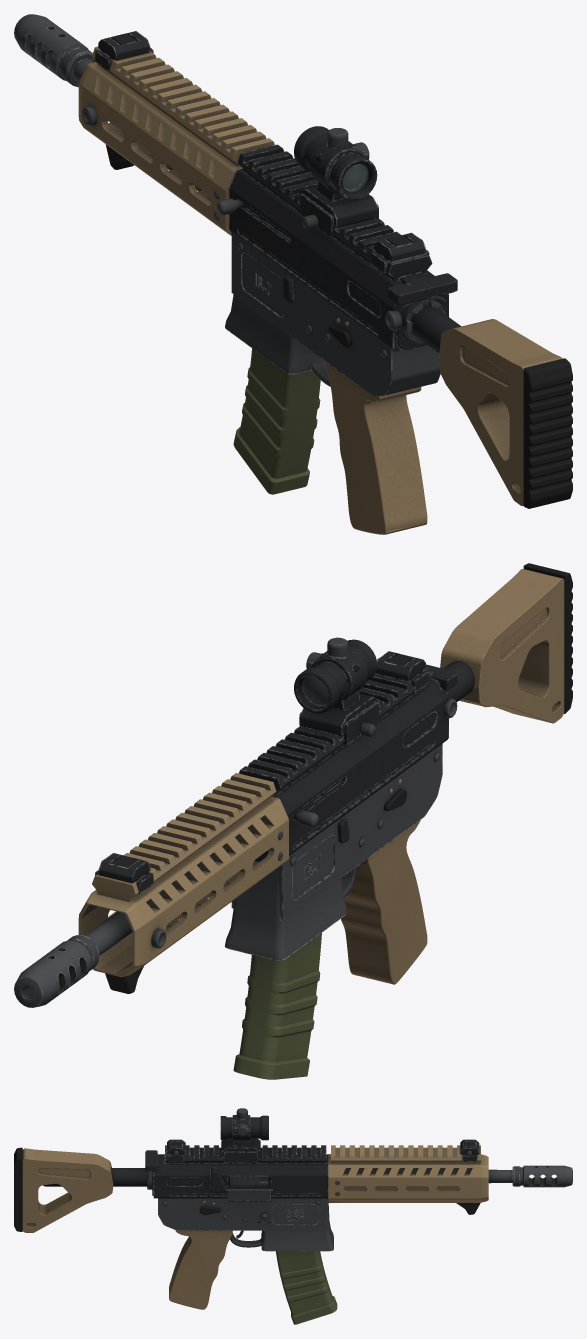
3 renders of one model, top to bottom at view 1: azimuth 30°, elevation 25°; view 2: azimuth 150°, elevation 25°; view 3: azimuth 270°, elevation 25°, orthographic. The views are drawn at different scales.
Visible parts, largest first — view 1: IR7_receiver, IR7_polymer, IR7_accent, IR7_gunmetal, IR7_olive_mag, IR7_rubber, IR7_receiver_optic, IR7_metal, IR7_dark; view 2: IR7_polymer, IR7_accent, IR7_receiver, IR7_gunmetal, IR7_olive_mag, IR7_receiver_optic, IR7_metal, IR7_rubber, IR7_dark; view 3: IR7_receiver, IR7_polymer, IR7_accent, IR7_gunmetal, IR7_olive_mag, IR7_metal, IR7_receiver_optic, IR7_rubber, IR7_dark.
Boxes of the visible parts, x1,y1,x2,y2 form: IR7_receiver: (95, 31, 461, 353); IR7_polymer: (326, 319, 562, 534); IR7_accent: (78, 46, 274, 235); IR7_gunmetal: (225, 233, 440, 396); IR7_olive_mag: (233, 348, 320, 494); IR7_rubber: (523, 358, 572, 508); IR7_receiver_optic: (294, 126, 378, 236); IR7_metal: (14, 14, 446, 358); IR7_dark: (105, 33, 412, 347); IR7_polymer: (341, 569, 564, 984); IR7_accent: (78, 773, 288, 977); IR7_receiver: (95, 651, 474, 893); IR7_gunmetal: (225, 743, 442, 960); IR7_olive_mag: (233, 933, 321, 1079); IR7_receiver_optic: (294, 637, 378, 744); IR7_metal: (14, 658, 457, 1007); IR7_rubber: (523, 563, 572, 713); IR7_dark: (105, 654, 469, 993); IR7_receiver: (43, 1139, 479, 1201); IR7_polymer: (22, 1148, 232, 1309); IR7_accent: (328, 1145, 488, 1202); IR7_gunmetal: (158, 1198, 333, 1251); IR7_olive_mag: (276, 1251, 337, 1324); IR7_metal: (147, 1150, 572, 1238); IR7_receiver_optic: (220, 1108, 268, 1162); IR7_rubber: (14, 1147, 22, 1231); IR7_dark: (170, 1142, 480, 1214).
Size of the model in its own units: 0.3253 by 1.24 by 2.98.
2 materials, 1 textured.
